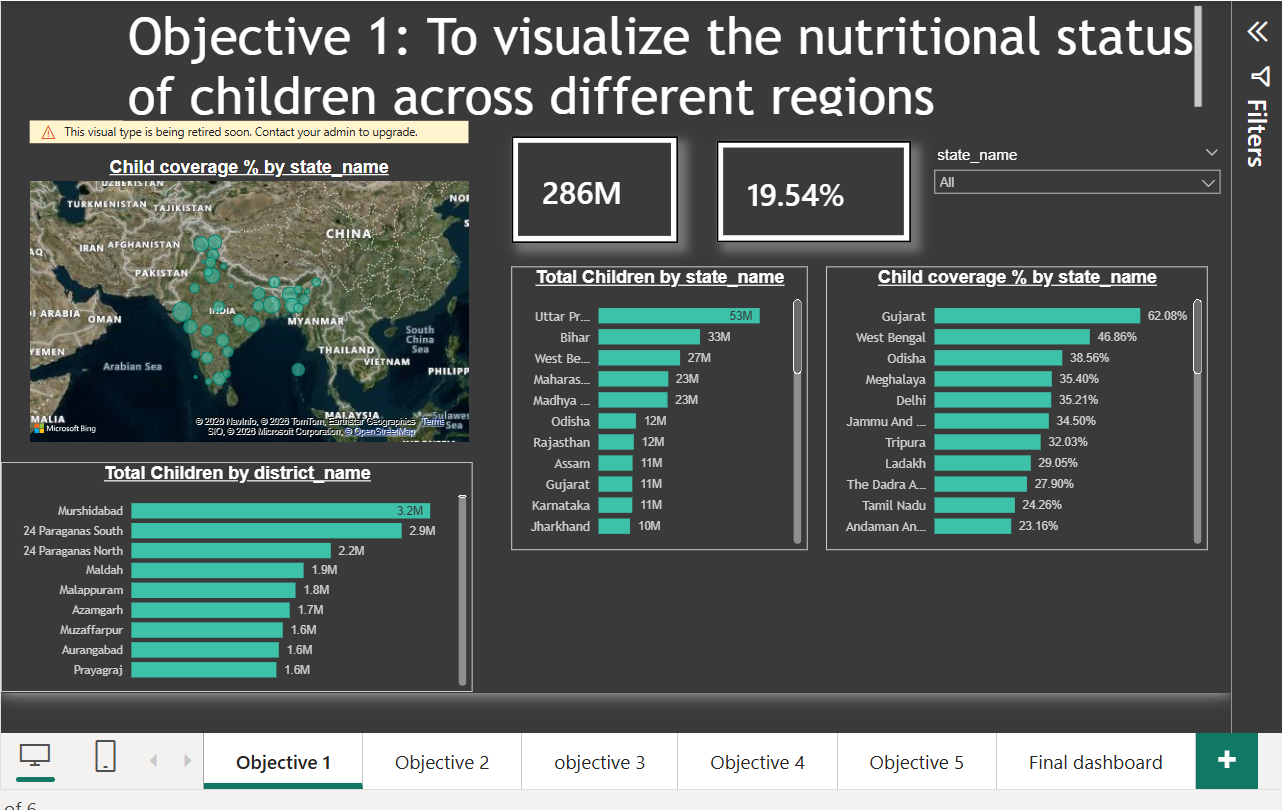

Layout of this report page (visuals, bound fields, positions):
{"tool":"powerbi","page":{"name":"Objective 1","canvas":[1280,720],"ordinal":0},"visuals":[{"type":"barChart","fields":{"Category":["mapped_poshan_tracker_updated.state_name"],"Y":["Measure table.Total Children"]},"box":[531,275.9,308,294.8],"z":0},{"type":"map","fields":{"Category":["mapped_poshan_tracker_updated.state_name"],"Size":["Measure table.Coverage 21 days %"]},"box":[24.6,124.7,466.8,340.2],"z":1000},{"type":"barChart","fields":{"Category":["mapped_poshan_tracker_updated.district_name"],"Y":["Measure table.Total Children"]},"box":[0,480,490.6,239.2],"z":2000},{"type":"slicer","fields":{"Values":["mapped_poshan_tracker_updated.state_name"]},"box":[961.9,145.5,317.5,105.8],"z":3000},{"type":"cardVisual","fields":{"Data":["Measure table.Total Children"]},"box":[531,139.8,173.9,111.5],"z":4000},{"type":"cardVisual","fields":{"Data":["Measure table.Coverage 21 days %"]},"box":[744.6,145.5,202.2,105.8],"z":5000},{"type":"clusteredBarChart","fields":{"Category":["mapped_poshan_tracker_updated.state_name"],"Y":["Measure table.Child coverage %"]},"box":[858,275.9,396.9,294.8],"z":6000},{"type":"textbox","box":[127.1,0,1127.1,124.3],"z":7000}]}

Visuals, with their boxes on the page's 1280x720 design canvas (x1, y1, x2, y2). These are canvas units, not pixel positions in the 1282x810 screenshot, which may show the page scaled, cropped or inside an application window:
barChart - mapped_poshan_tracker_updated.state_name x Measure table.Total Children: (531, 276, 839, 571)
map - mapped_poshan_tracker_updated.state_name x Measure table.Coverage 21 days %: (25, 125, 491, 465)
barChart - mapped_poshan_tracker_updated.district_name x Measure table.Total Children: (0, 480, 491, 719)
slicer - mapped_poshan_tracker_updated.state_name: (962, 146, 1279, 251)
cardVisual - Measure table.Total Children: (531, 140, 705, 251)
cardVisual - Measure table.Coverage 21 days %: (745, 146, 947, 251)
clusteredBarChart - mapped_poshan_tracker_updated.state_name x Measure table.Child coverage %: (858, 276, 1255, 571)
textbox: (127, 0, 1254, 124)
